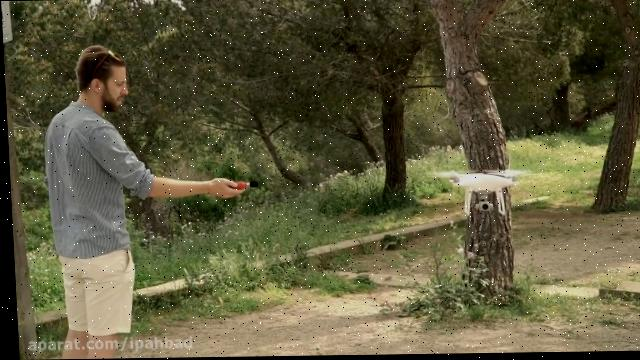drone: (425, 168, 535, 215)
